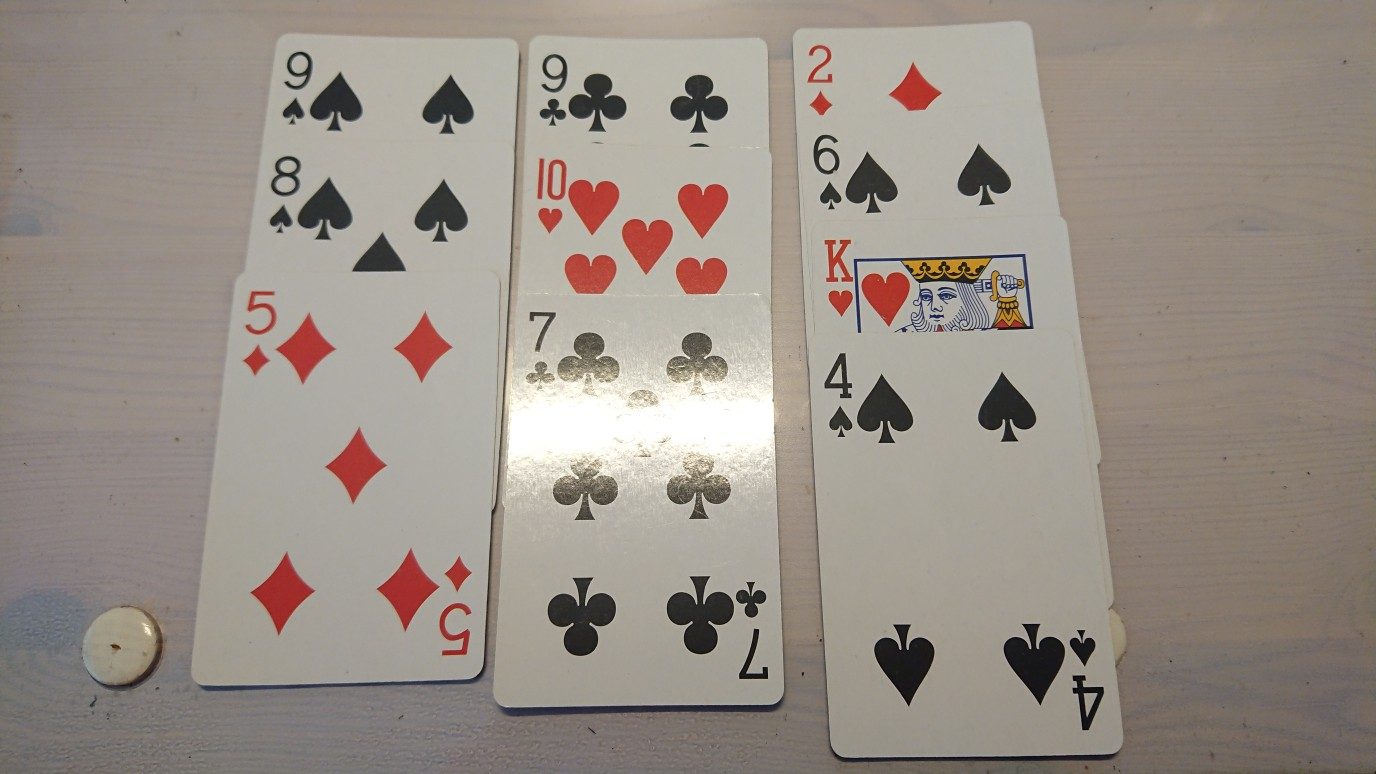10H: (532, 154, 569, 235)
2D: (803, 40, 840, 120)
4S: (821, 348, 858, 443)
5D: (238, 287, 280, 381)
6S: (809, 129, 844, 214)
7C: (520, 306, 561, 394)
8S: (265, 152, 303, 236)
9C: (537, 50, 570, 130)
9S: (277, 47, 315, 129)
KH: (818, 234, 858, 320)
